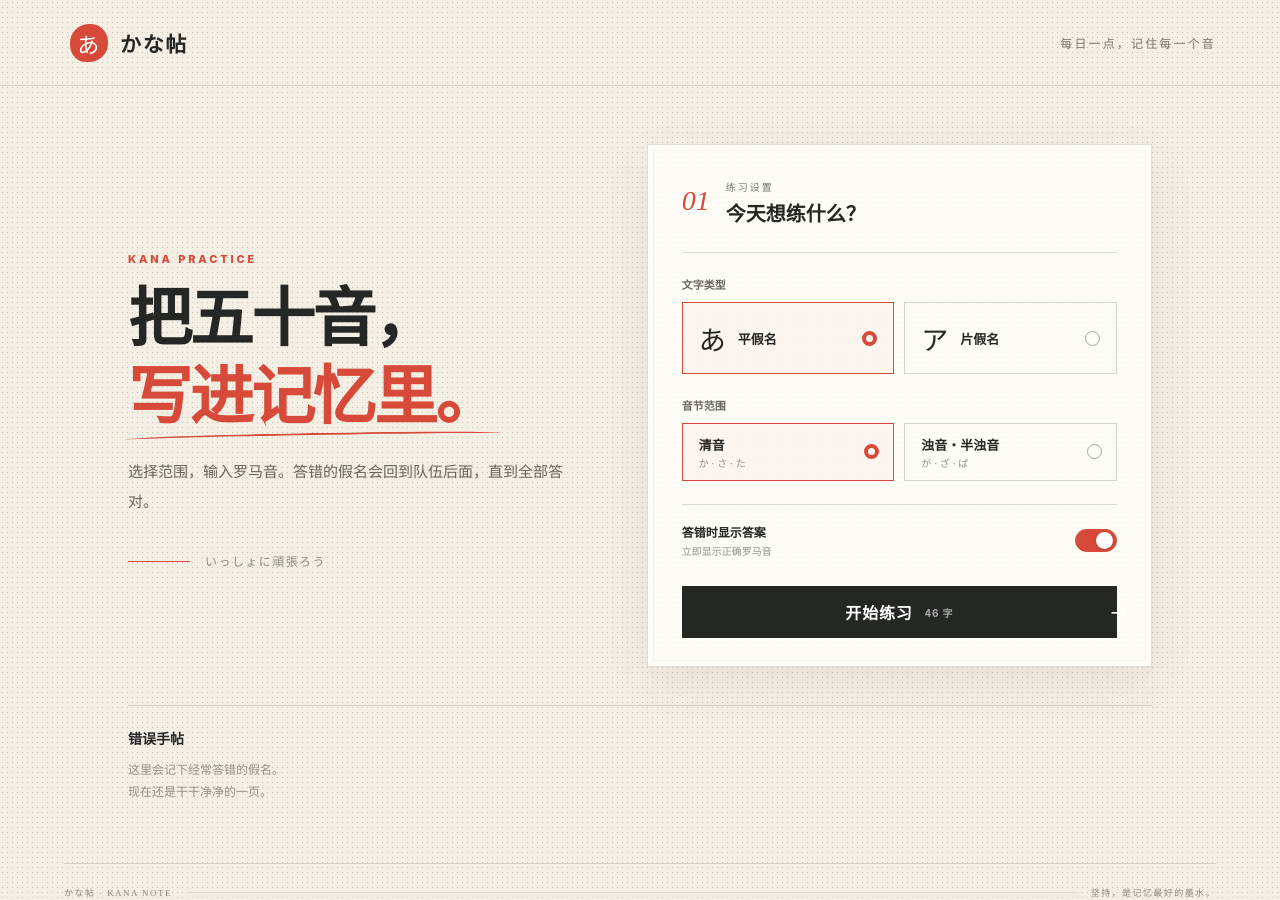
五十音练习 › 答错后快速输入下一题答案并回车时仍会正常校验
Click the button "开始练习 46 字 →".
click(899, 612)  # box [682,586,1117,638]
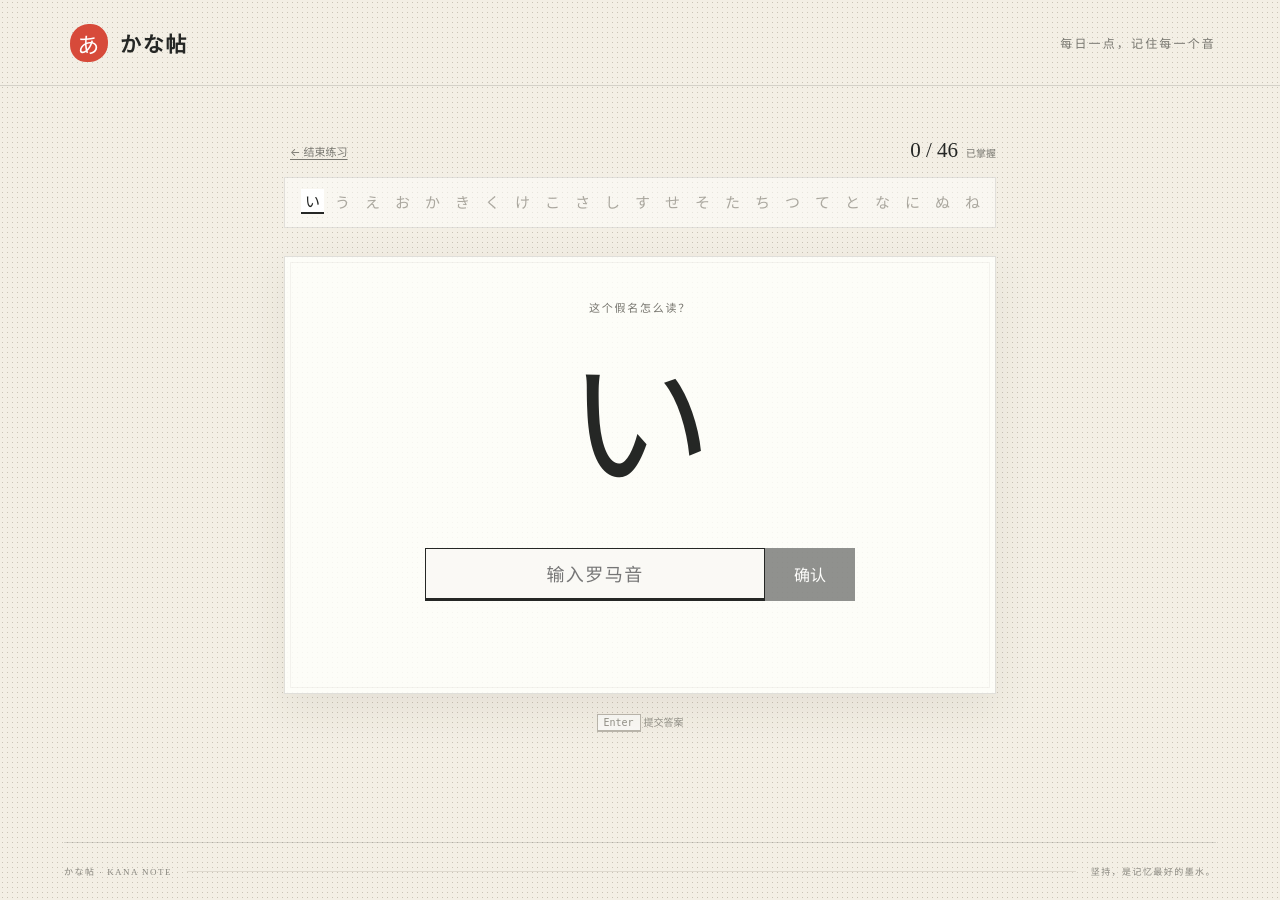
Now the element showing "这个假名怎么读？ い 确认" is shown, box [284,256,996,694]
Now the text with class "kana" reads "い", box [568,347,712,507]
Type "wrong" into the field with placeholder "输入罗马音".
click(595, 574); type("wrong")  # box [425,548,765,601]
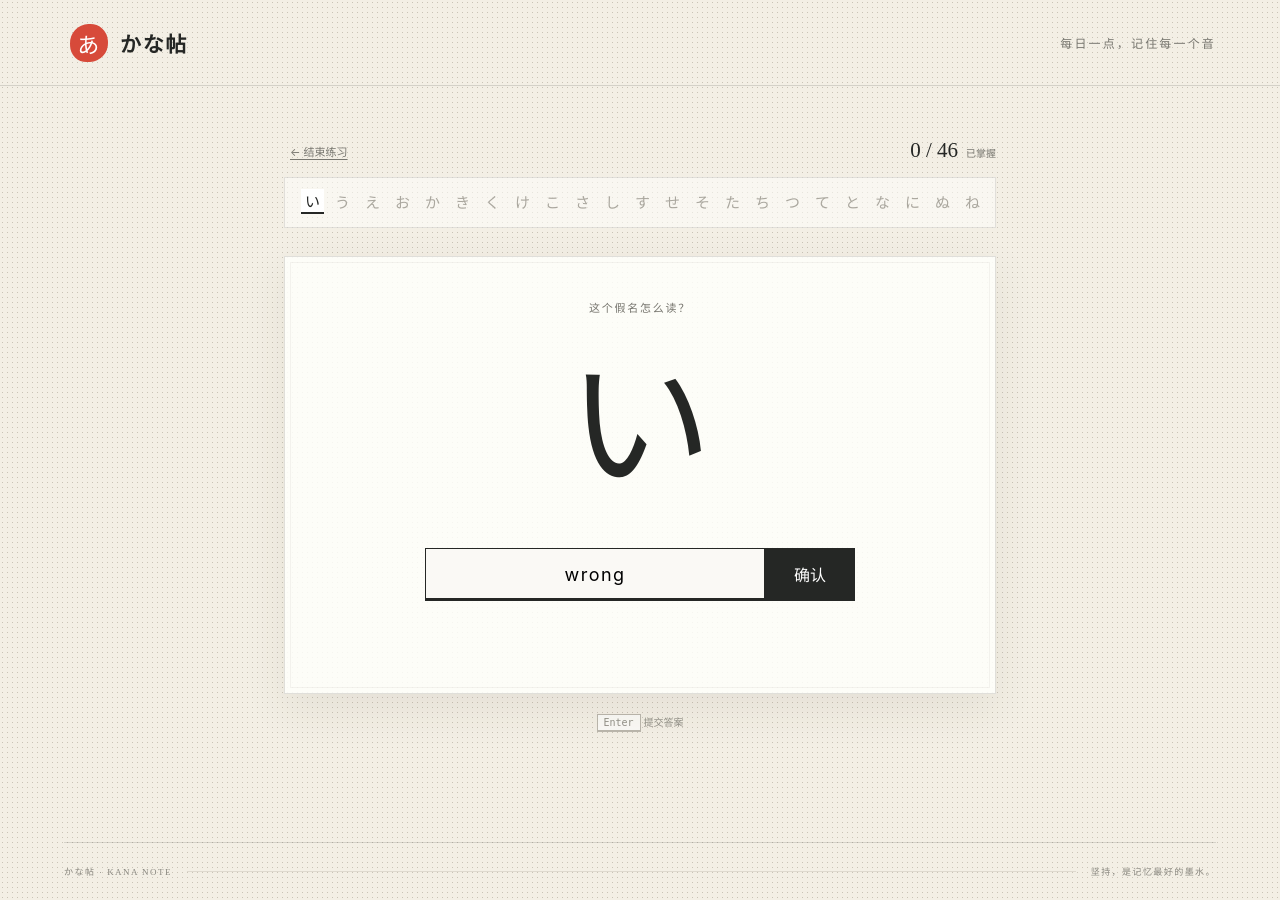
Submit the form, box [425,548,855,601]
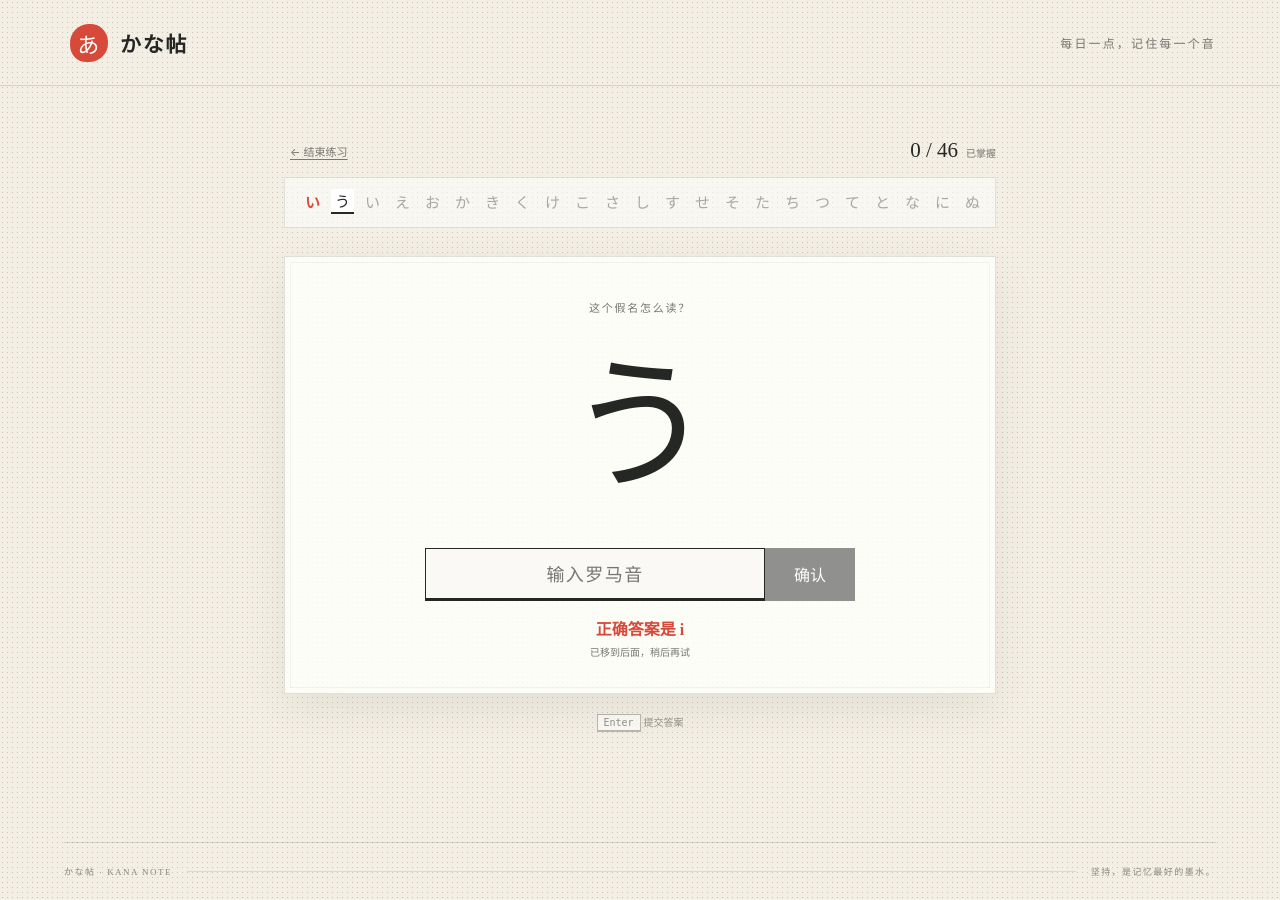
Now the 1st text "い" is shown, box [305,195,320,211]
Now the 1st text "う" is shown, box [331,189,354,214]
Now the text with class "kana" reads "う", box [568,347,712,507]
Type "u" into the field with placeholder "输入罗马音".
click(595, 574); type("u")  # box [425,548,765,601]
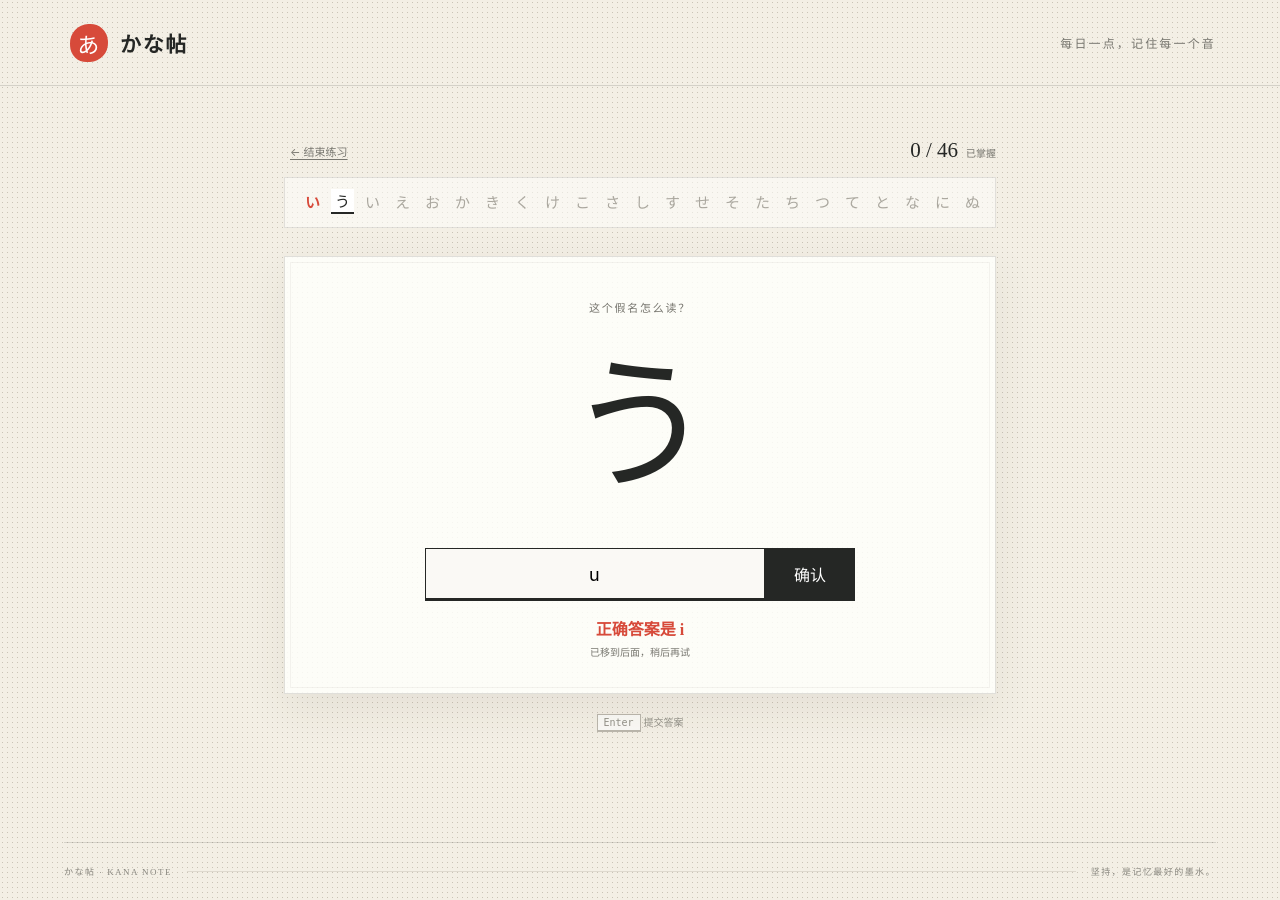
Submit the form, box [425,548,855,601]
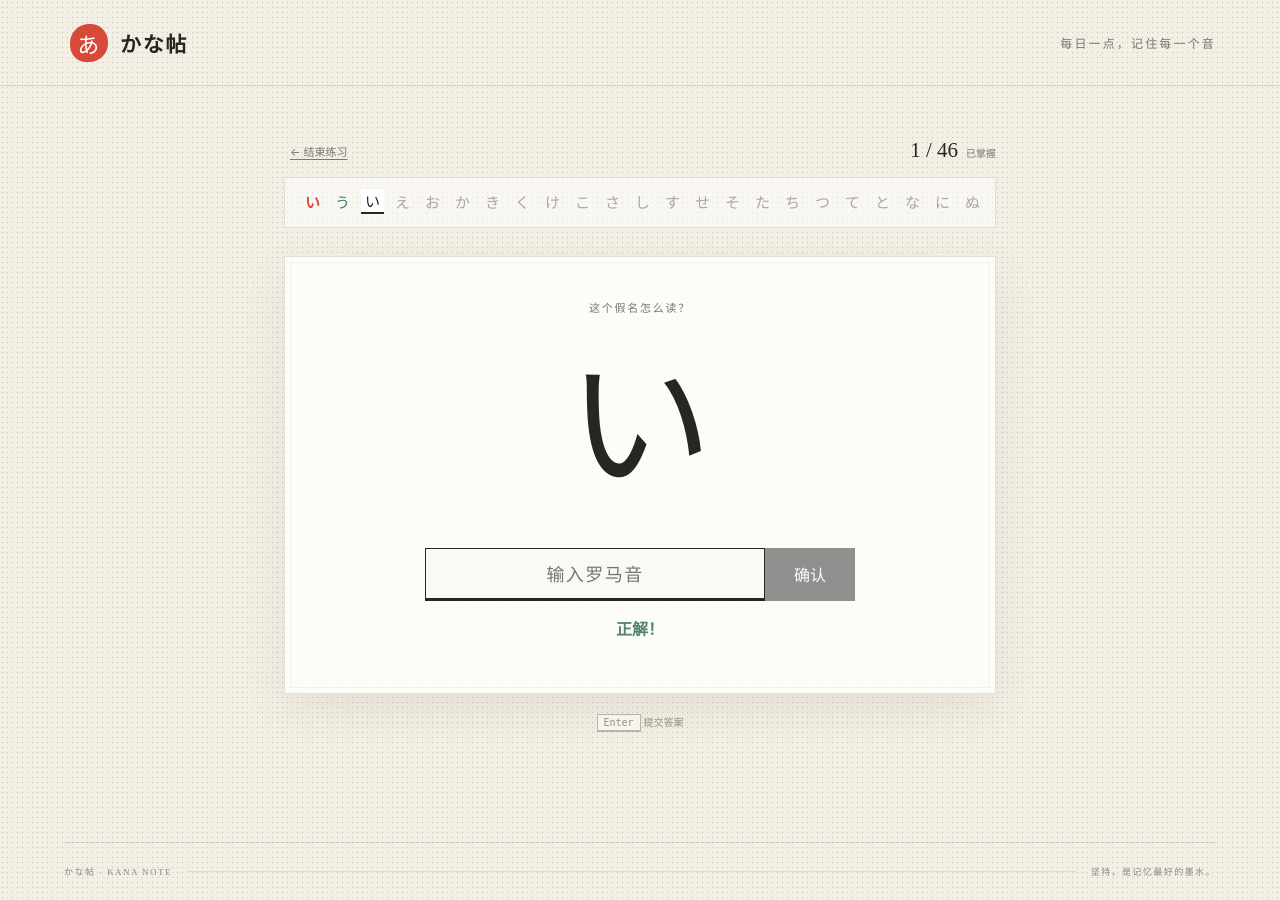
Now the field with placeholder "输入罗马音" is empty, box [425,548,765,601]
Now the element with class "feedback" shows "正解", box [616,621,664,638]
Now the element showing "1 / 46 已掌握" is shown, box [910,138,996,163]
